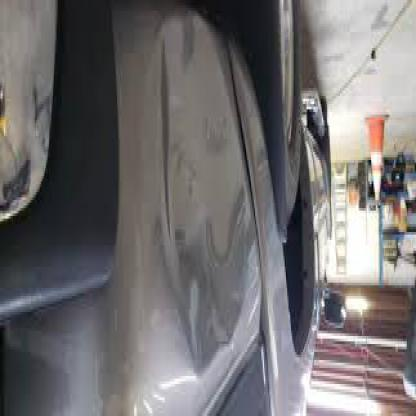dent: (154, 16, 250, 387)
